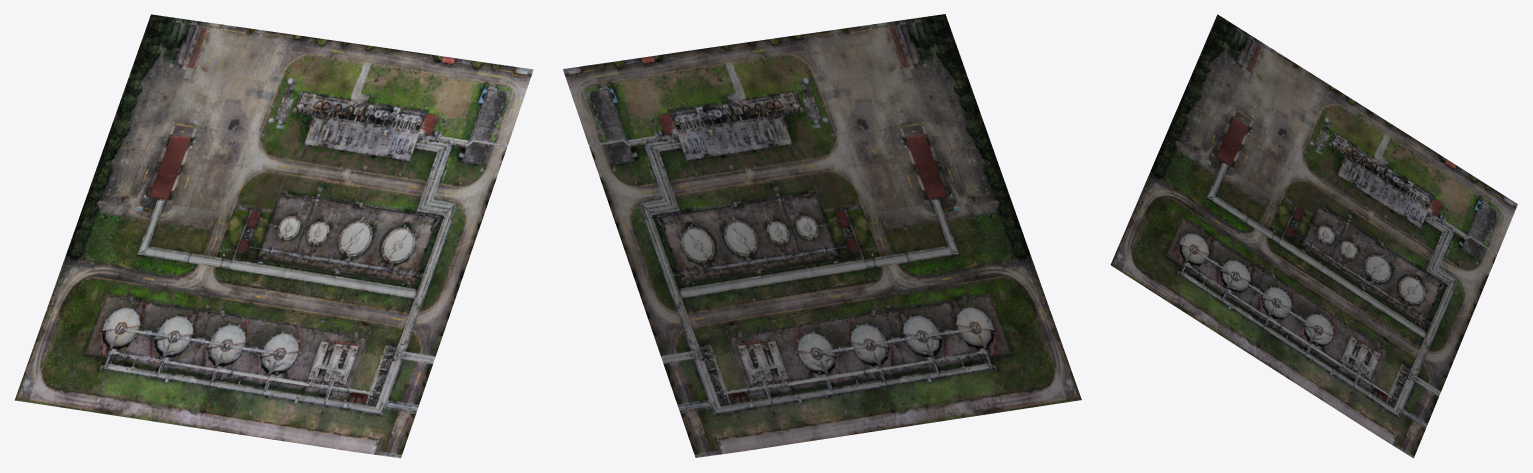
File: dixing_02_01.fbx
The picture shows the model from 3 angles, left to right: view 1: azimuth 30°, elevation 25°; view 2: azimuth 150°, elevation 25°; view 3: azimuth 330°, elevation 25°; orthographic projection. The views are drawn at different scales.
Parts seen in each view (by area): view 1: dixing_02_01; view 2: dixing_02_01; view 3: dixing_02_01.
Boxes of the visible parts, x1,y1,x2,y2 form: dixing_02_01: (15, 14, 533, 458); dixing_02_01: (563, 14, 1081, 457); dixing_02_01: (1110, 14, 1517, 458).
Bounding box in the file's own units: 24282 × 22587 × 43.09.
1 material, 1 textured.
